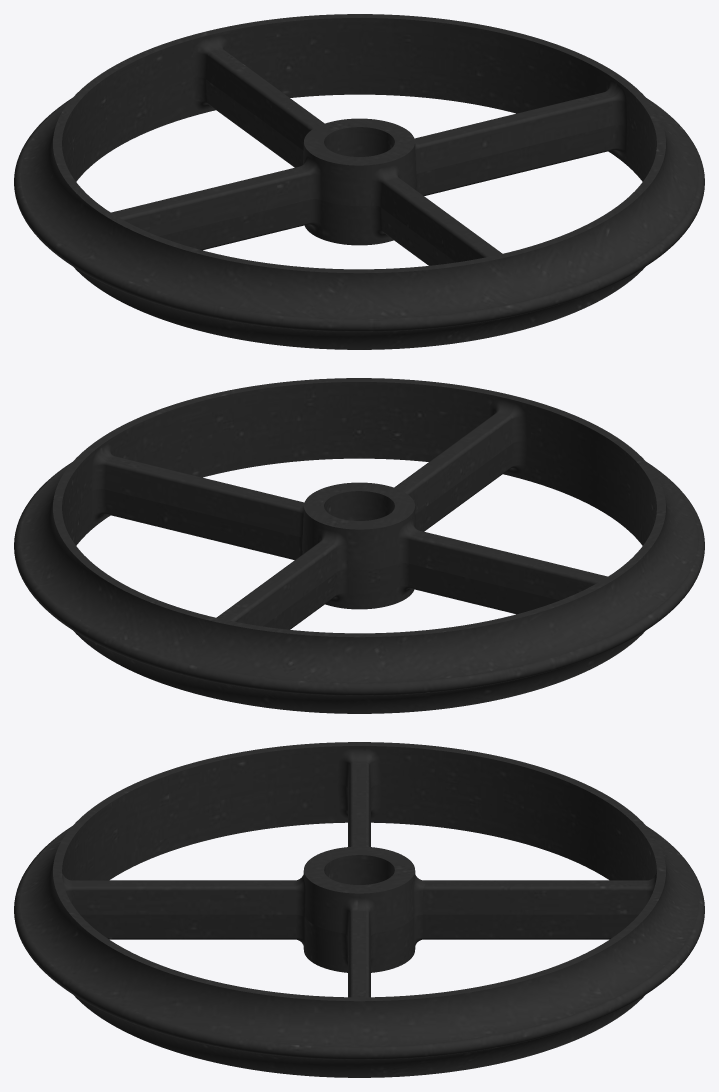
Rendered from 24-inch-plain-wheel.glb.
3 views of the same model, one above another, from view 1: azimuth 30°, elevation 25°; view 2: azimuth 150°, elevation 25°; view 3: azimuth 270°, elevation 25° (orthographic).
Visible parts, largest first — view 1: 24 INCH PLAIN WHEEL_high; view 2: 24 INCH PLAIN WHEEL_high; view 3: 24 INCH PLAIN WHEEL_high.
Part boxes in pixels (box(x1,y1,x2,y2)): 24 INCH PLAIN WHEEL_high: box(14, 14, 704, 349); 24 INCH PLAIN WHEEL_high: box(14, 378, 704, 713); 24 INCH PLAIN WHEEL_high: box(14, 742, 704, 1077).
Bounding box in the file's own units: 0.6038 × 0.077 × 0.604.
Materials: 1 (1 with a texture image).
